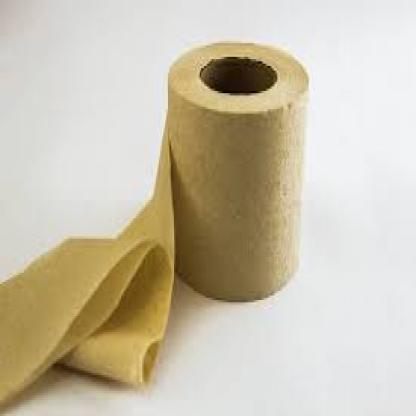tissue: (163, 34, 310, 304)
